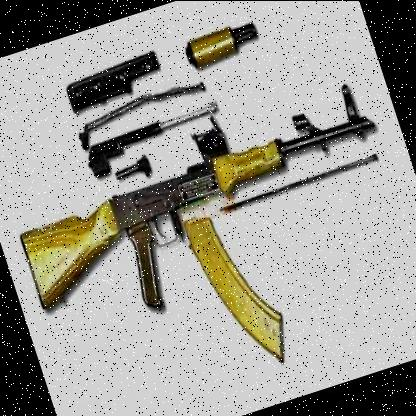rifle: (0, 72, 416, 416)
